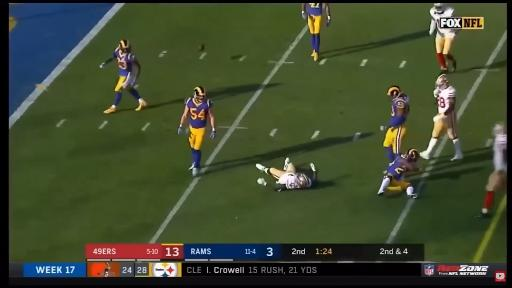Helmet: (387, 86, 401, 101), (193, 87, 206, 102), (436, 75, 449, 90), (119, 39, 130, 54), (434, 0, 446, 13), (296, 173, 307, 187), (407, 148, 418, 161)
Jersey: (186, 98, 212, 128), (430, 7, 455, 38), (113, 48, 138, 77), (435, 86, 456, 113), (391, 94, 409, 125), (387, 155, 407, 181), (494, 134, 507, 171), (278, 173, 300, 189), (306, 3, 322, 16)
Player: (420, 75, 462, 160), (100, 40, 146, 113), (178, 87, 215, 176), (480, 123, 507, 217), (256, 158, 317, 191), (378, 149, 419, 198), (383, 86, 409, 162), (430, 3, 456, 74), (302, 3, 330, 61), (99, 263, 115, 277)
